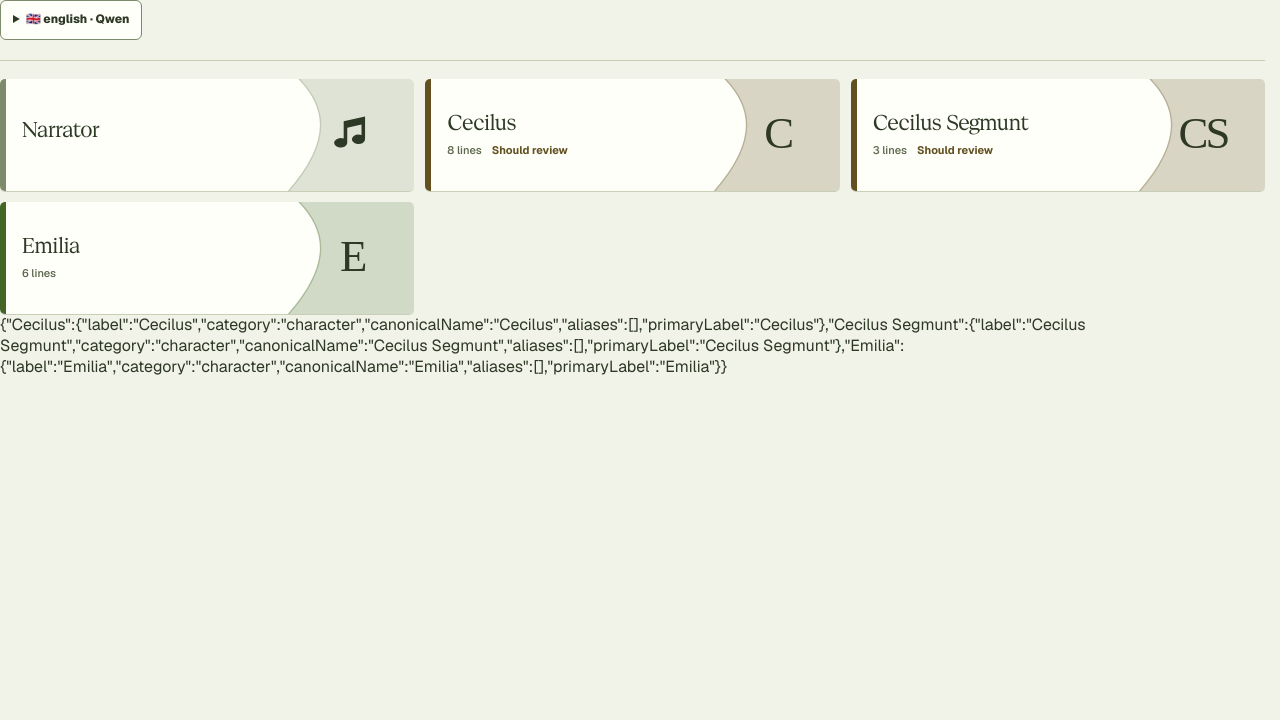
Scenario: CastIdentityReview › organizes cast members around a pinned Narrator and cumulative evidence
Click the button with aria-label "Inspect Narrator": (60, 129) [0, 79, 414, 191]
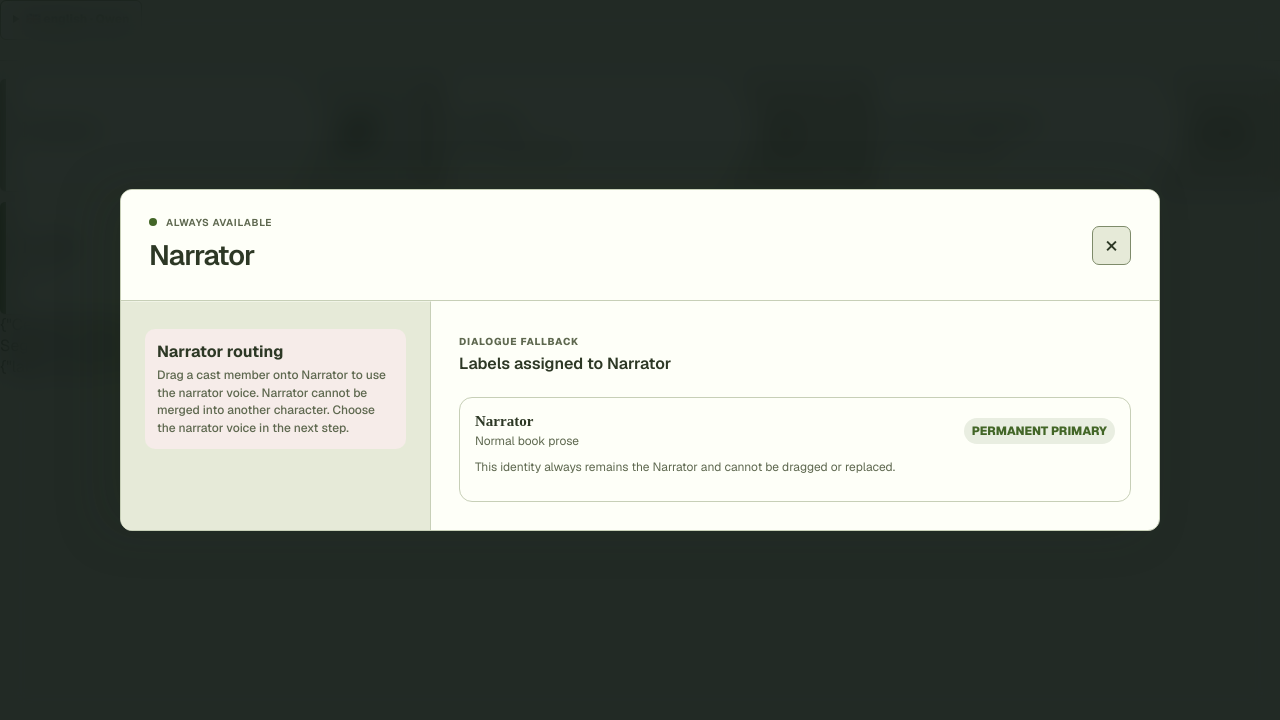
Expected: the dialog named "Inspect Narrator" does not show "No speaker labels reassigned", [120, 189, 1160, 531]
Result: the dialog named "Inspect Narrator" shows "Permanent primary" at [972, 423, 1107, 439]
Click the button named "Close cast member": (1112, 245) [1092, 226, 1131, 265]
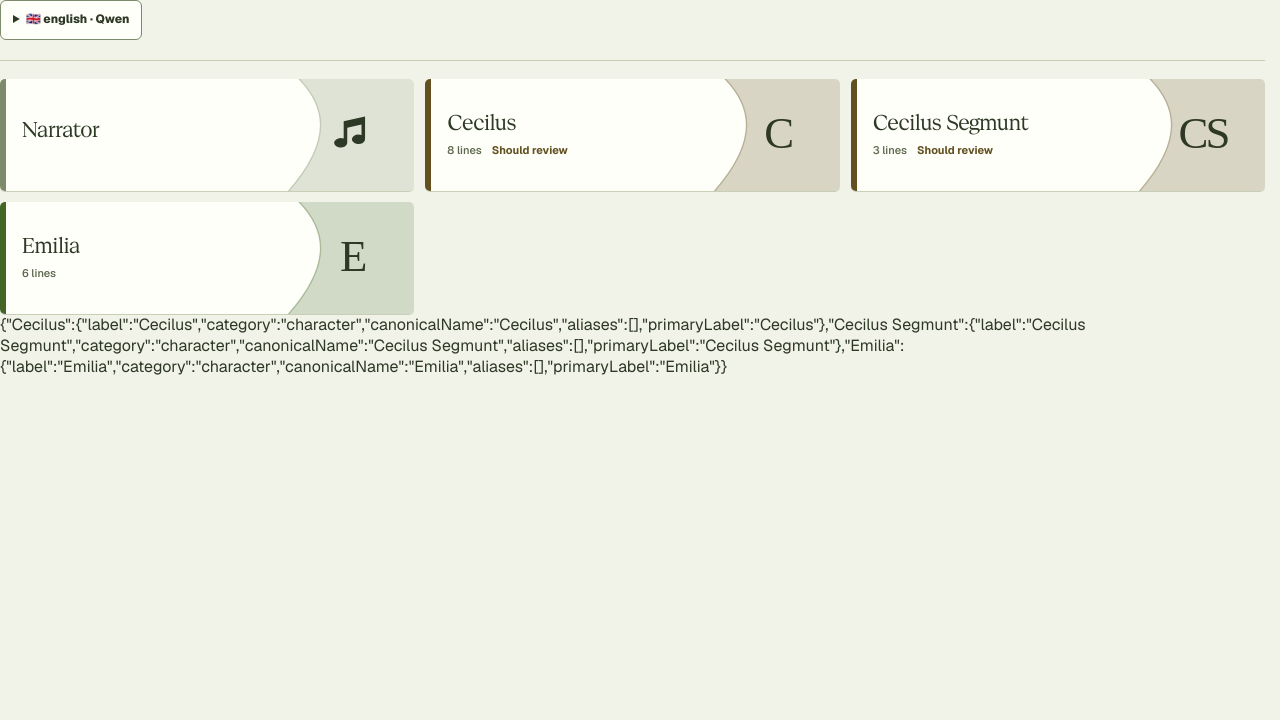
Click the button with aria-label "Inspect Cecilus": (482, 123) [425, 79, 840, 191]
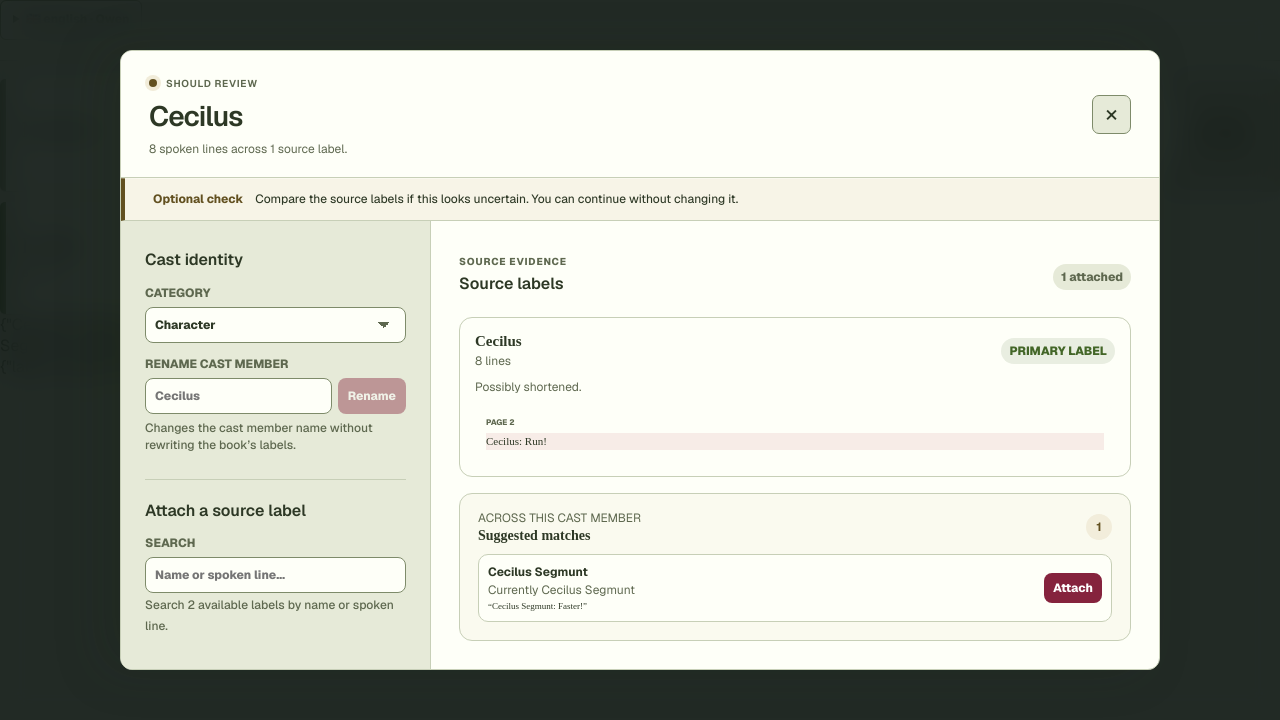
Result: the dialog named "Inspect Cecilus" shows "Cecilus: Run!" at [486, 435, 547, 447]
Result: the button "Attach" is shown at [1044, 573, 1102, 603]
